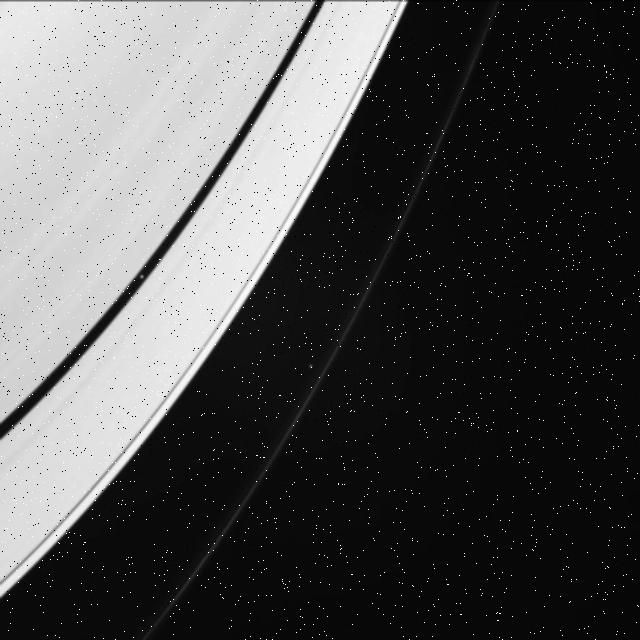Saturn: (0, 0, 510, 640)
